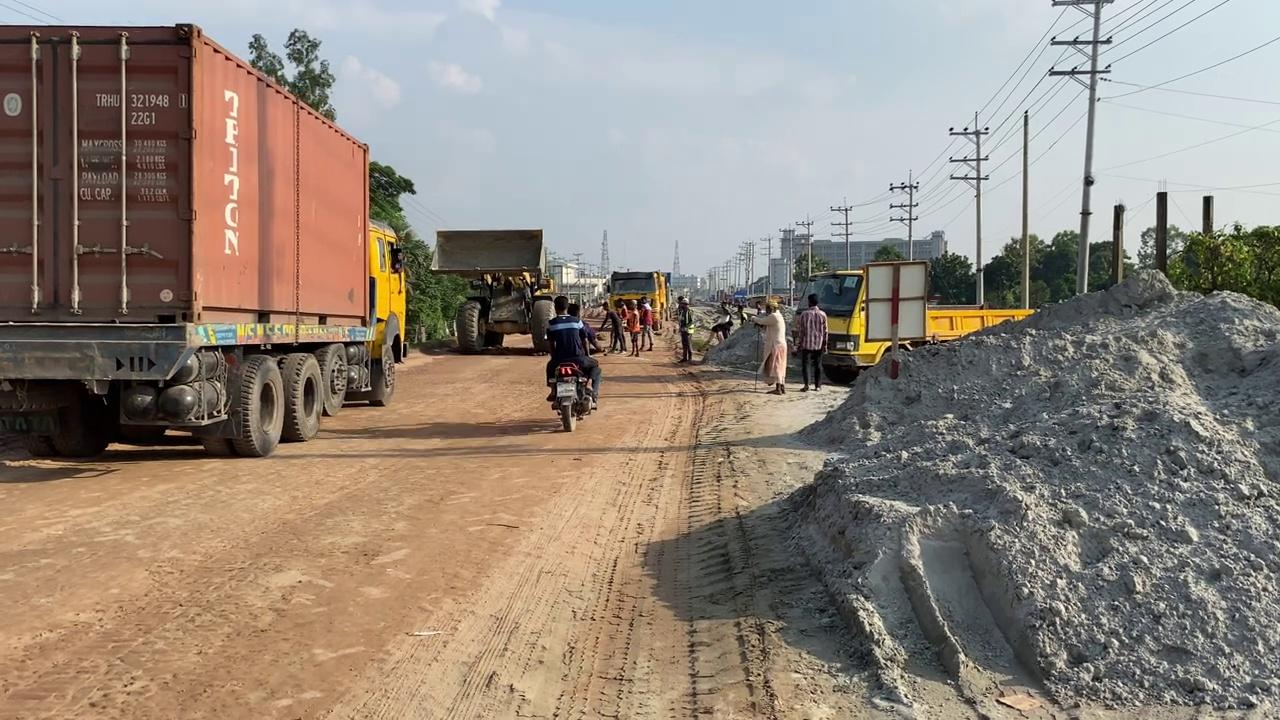Garbage: (791, 267, 1278, 718)
Motorcycle: (547, 356, 598, 432)
Muddy road: (1, 327, 904, 718)
Pole: (1047, 0, 1113, 294), (1020, 108, 1030, 309)
Tree: (0, 20, 407, 457), (794, 258, 1038, 383), (427, 228, 558, 354), (601, 269, 670, 332)
